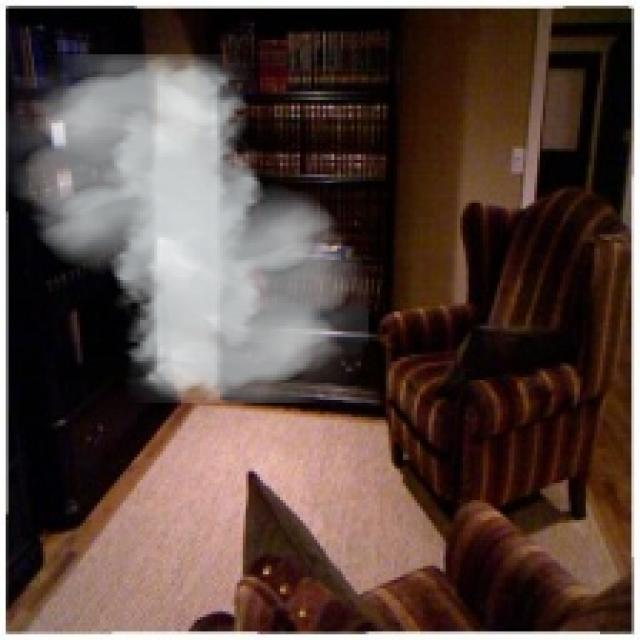smoke: (6, 54, 368, 403)
